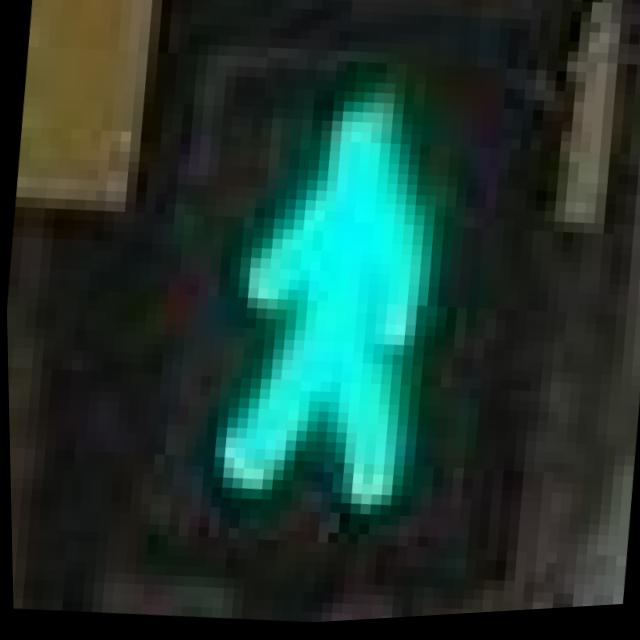green_light: (190, 69, 452, 531)
